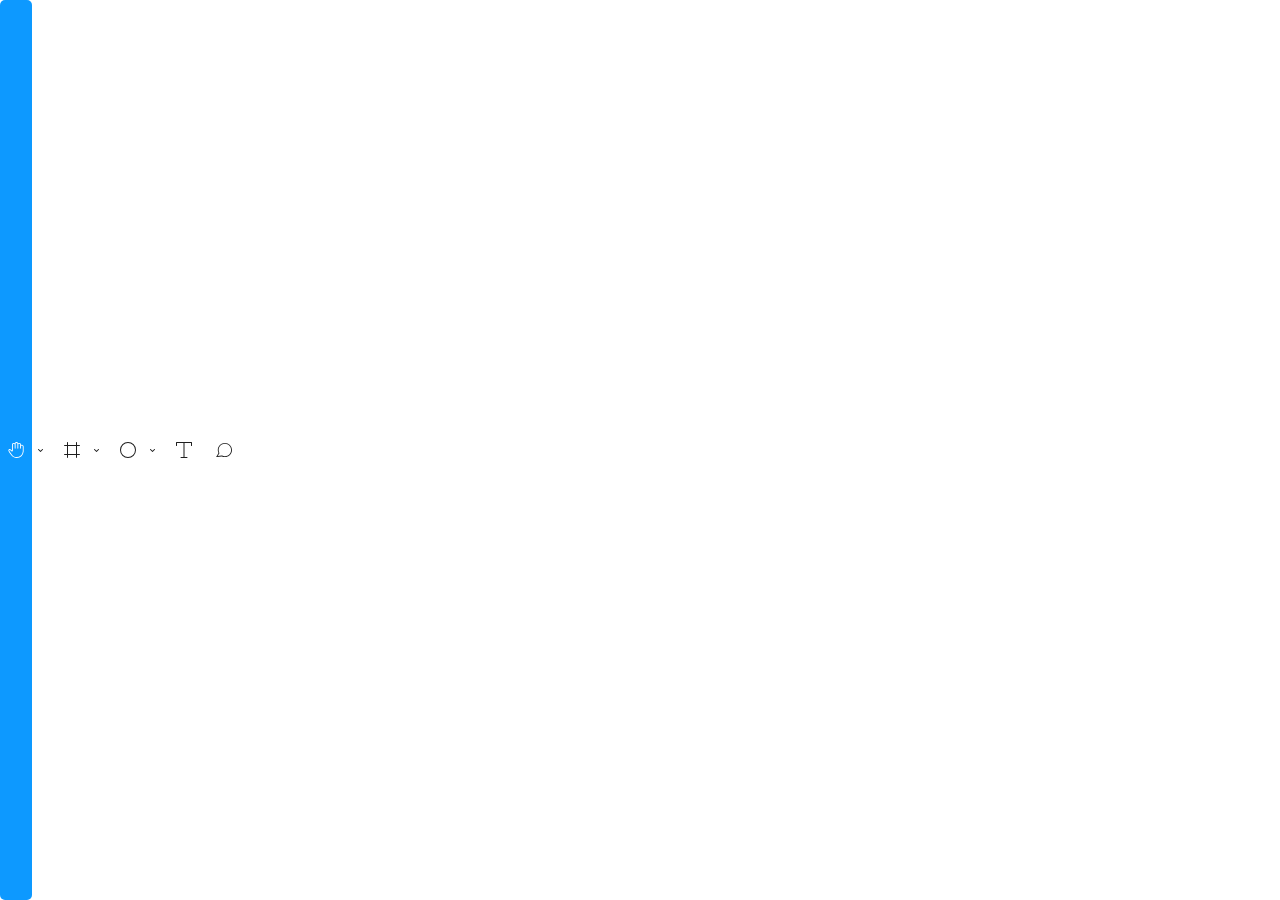
Test: MouseModes behaviors › should close the previously open dropdown when a different one is opened
Click the button named "default options" at (40, 450), box [32, 434, 48, 466]
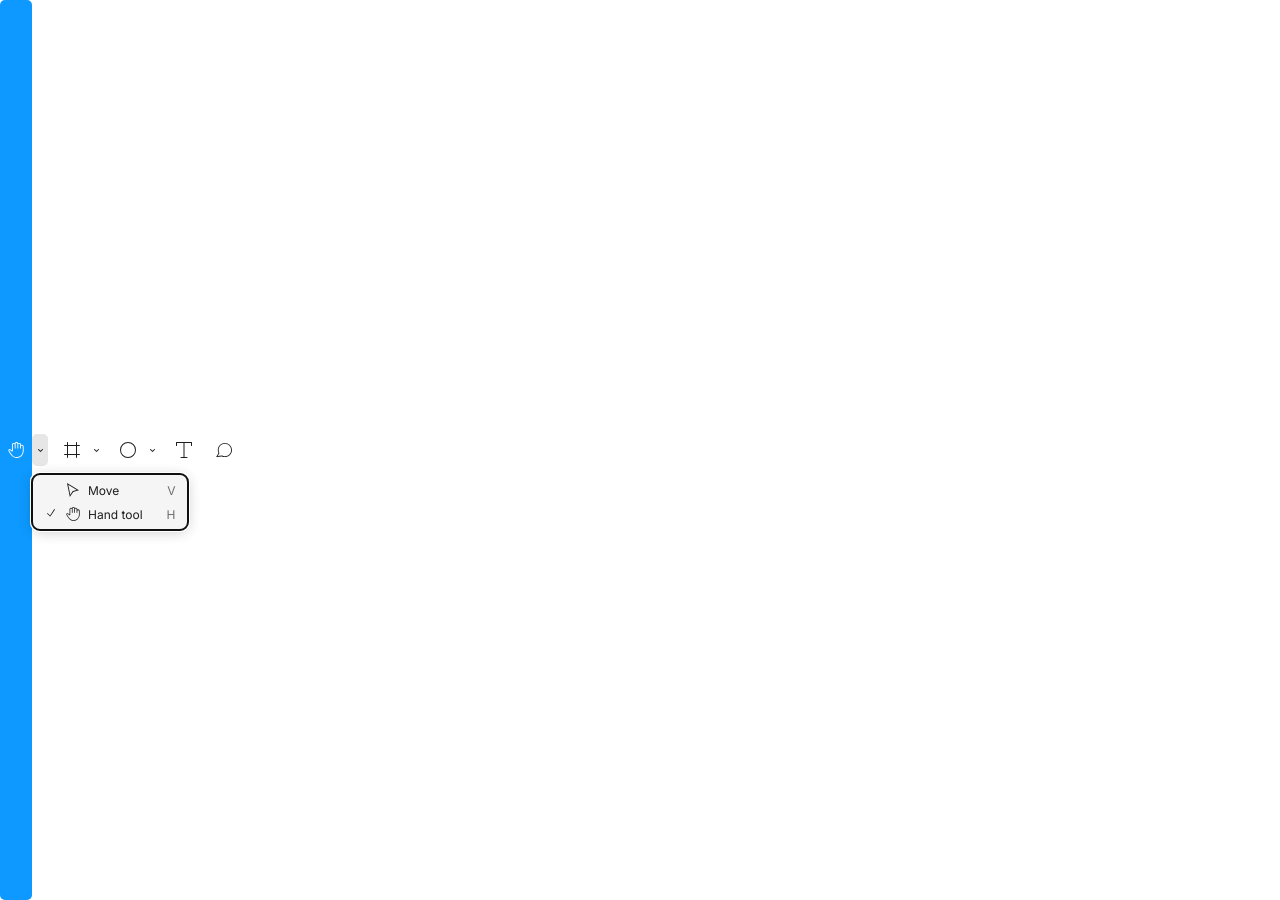
expect the text "Hand tool" is shown: met, box [88, 506, 143, 522]
Click the button named "frame options" at (96, 450), box [88, 434, 104, 466]
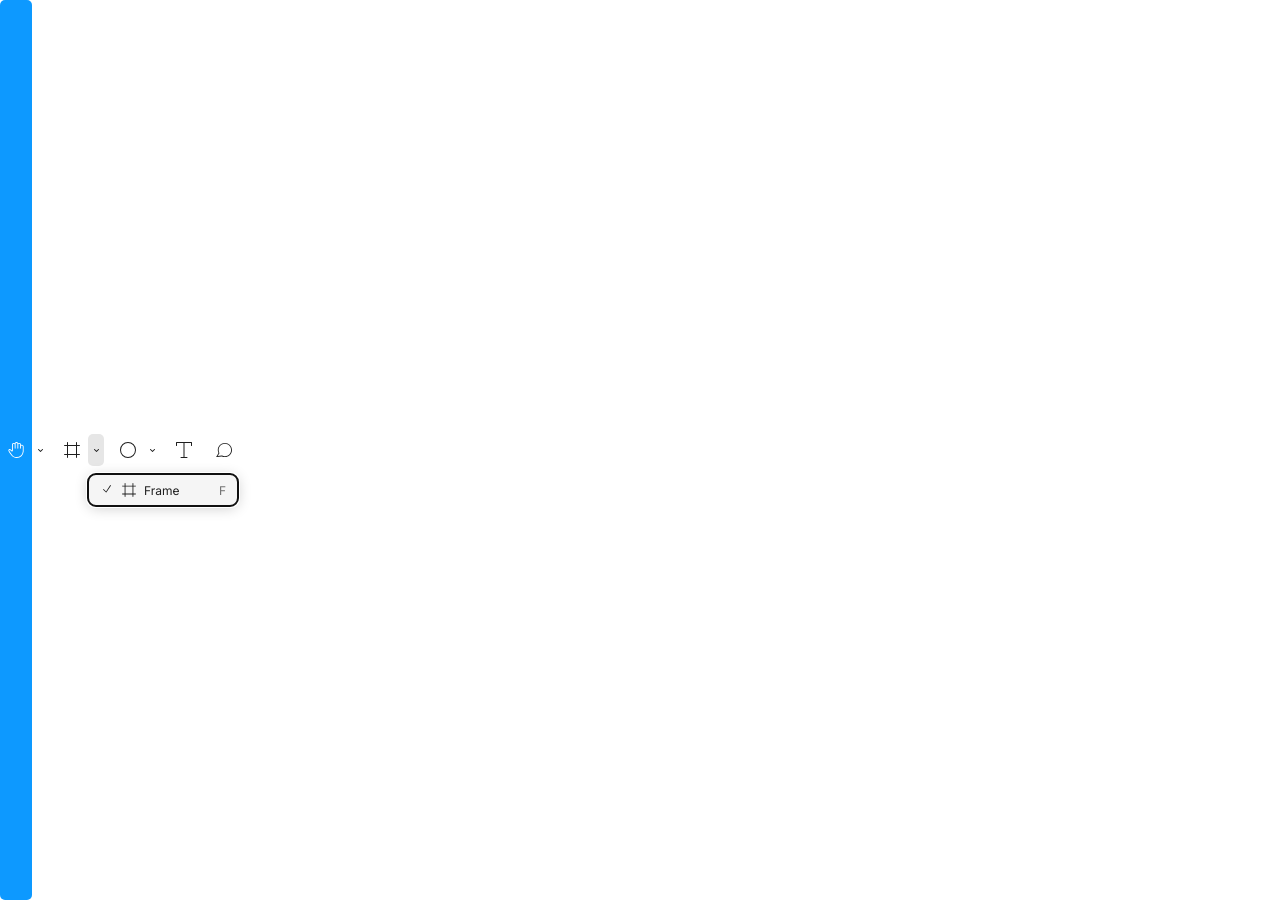
expect the text "Hand tool" is gone: met
expect the text "Frame" is shown: met, box [144, 482, 180, 498]
